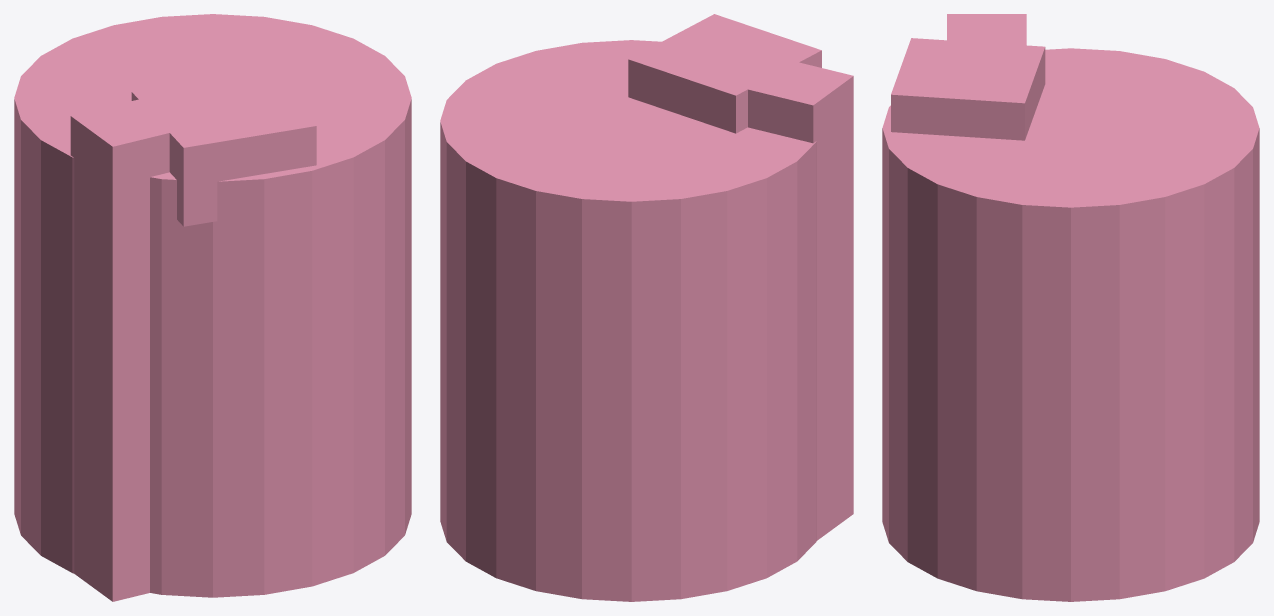
Rendered from folie_tag_079.glb.
The picture shows the model from 3 angles, left to right: view 1: azimuth 30°, elevation 25°; view 2: azimuth 150°, elevation 25°; view 3: azimuth 270°, elevation 25°; orthographic projection. The views are drawn at different scales.
Parts seen in each view (by area): view 1: folie_tag_079_00_drum, folie_tag_079_core, folie_tag_079_02_block; view 2: folie_tag_079_00_drum, folie_tag_079_core, folie_tag_079_02_block; view 3: folie_tag_079_00_drum, folie_tag_079_02_block, folie_tag_079_core.
Boxes of the visible parts, x1,y1,x2,y2 form: folie_tag_079_00_drum: (14,14,411,597); folie_tag_079_core: (70,98,175,601); folie_tag_079_02_block: (131,69,316,226); folie_tag_079_00_drum: (440,40,816,601); folie_tag_079_core: (748,62,853,540); folie_tag_079_02_block: (628,14,821,133); folie_tag_079_00_drum: (882,48,1259,601); folie_tag_079_02_block: (891,38,1045,140); folie_tag_079_core: (947,14,1026,47).
Size of the model in its own units: 5.2 by 6.57 by 5.2.
